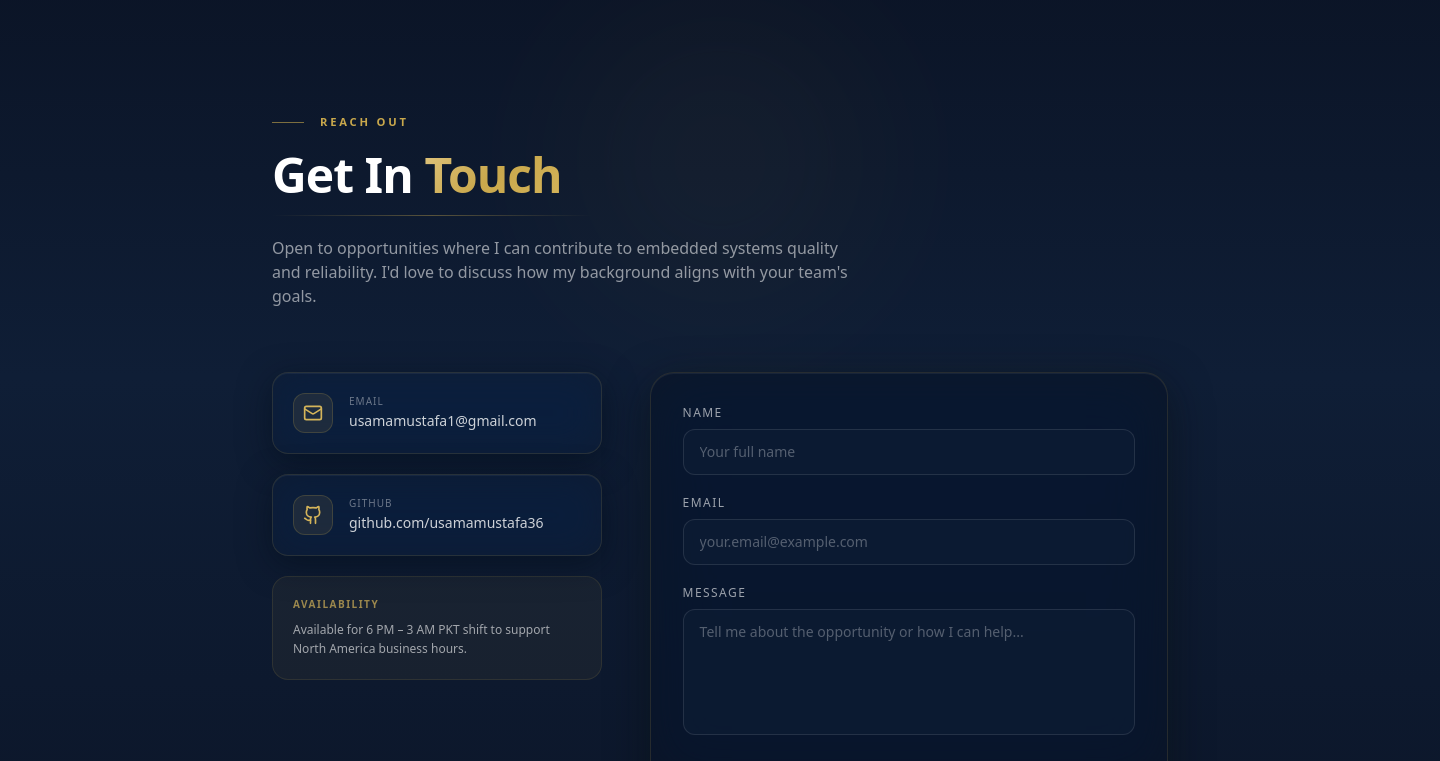
it: Contact Component › submits form successfully
Type "John Doe" into the field labelled "Name" at {"x": 909, "y": 452}, box top-left (683, 429), bottom-right (1135, 475)
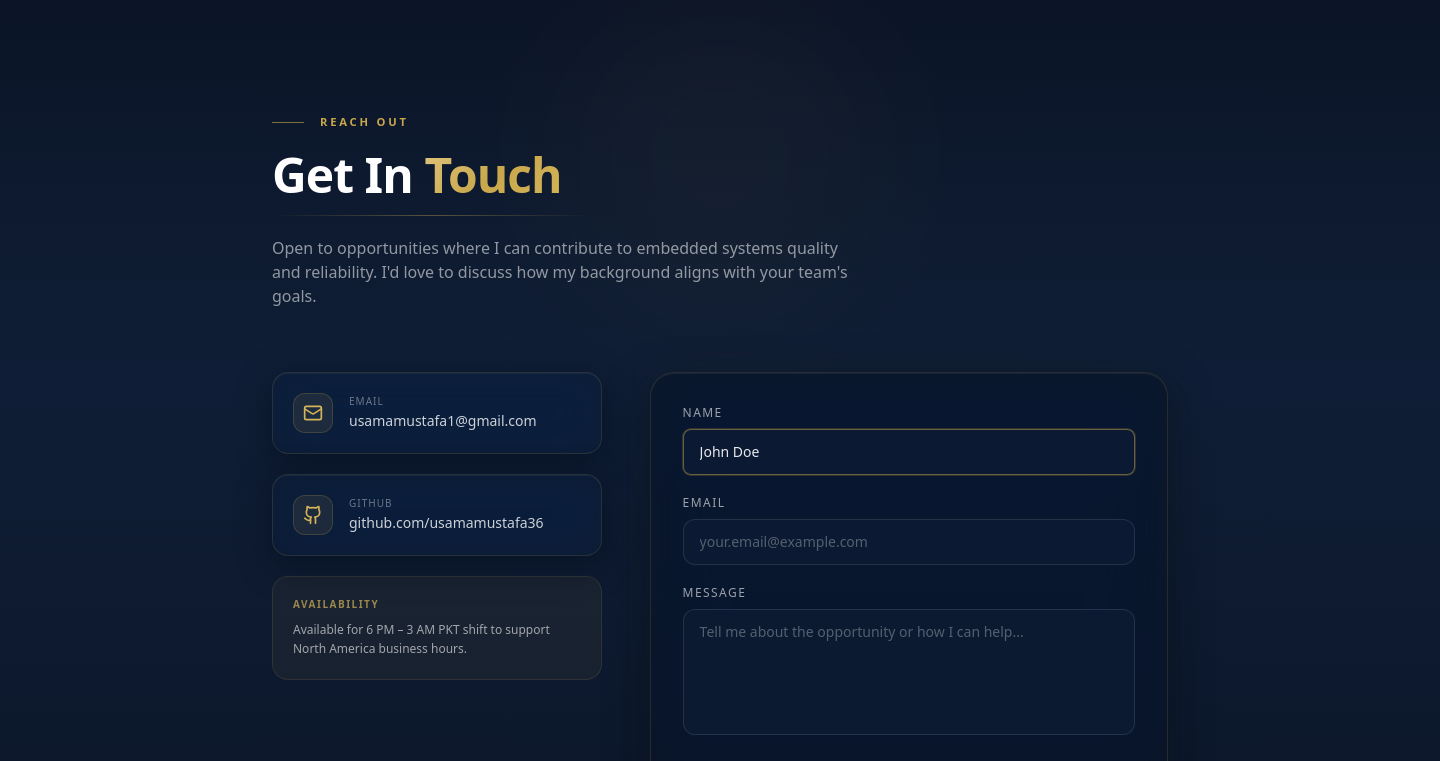
Type "john@example.com" into the field labelled "Email" at {"x": 909, "y": 542}, box top-left (683, 519), bottom-right (1135, 565)
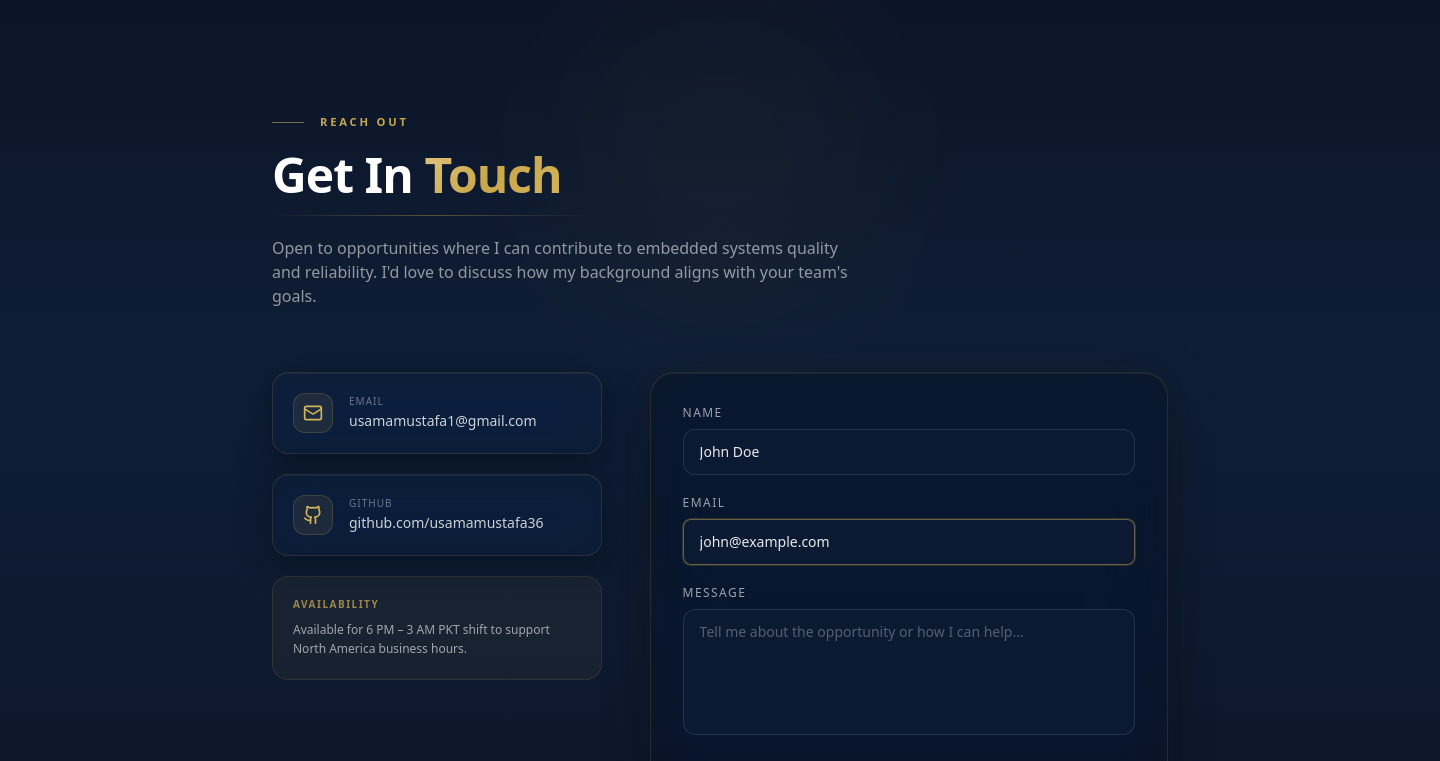
Type "This is a test message" into the text box labelled "Message" at {"x": 909, "y": 672}, box top-left (683, 609), bottom-right (1135, 735)
(page scrolled)
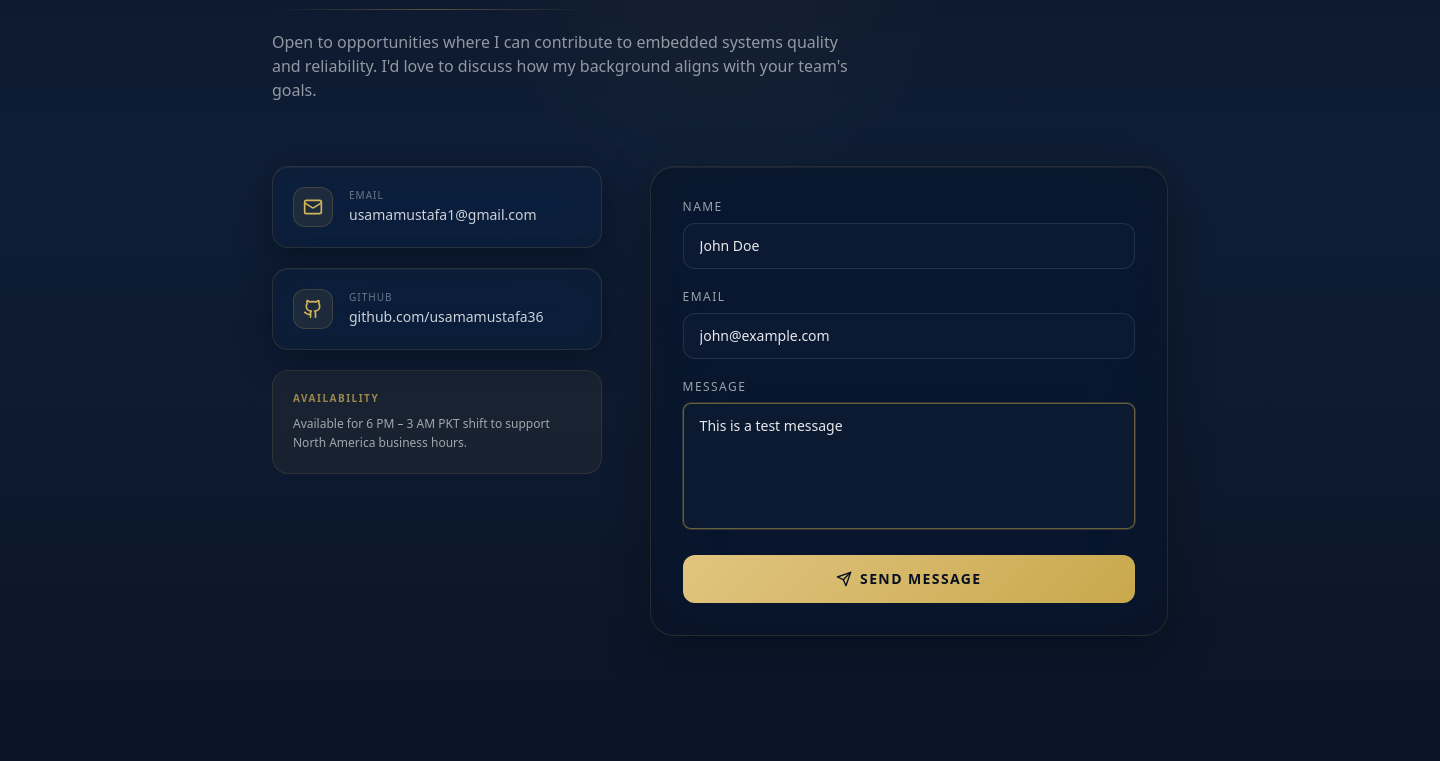
Click the button "SEND MESSAGE" at {"x": 909, "y": 579}, box top-left (683, 555), bottom-right (1135, 603)
(page scrolled)
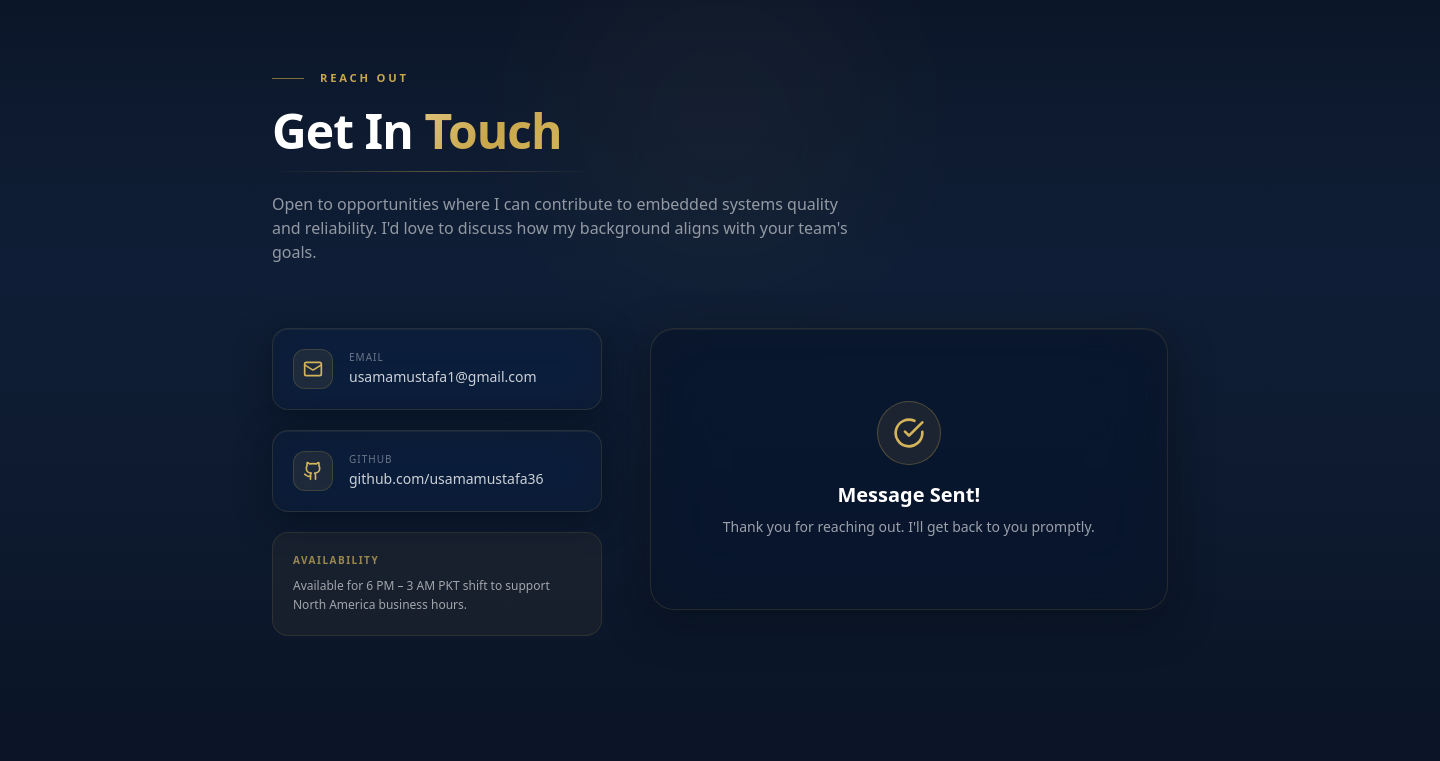
Expected: the heading "Message Sent!" is shown, top-left (837, 481), bottom-right (980, 508)
